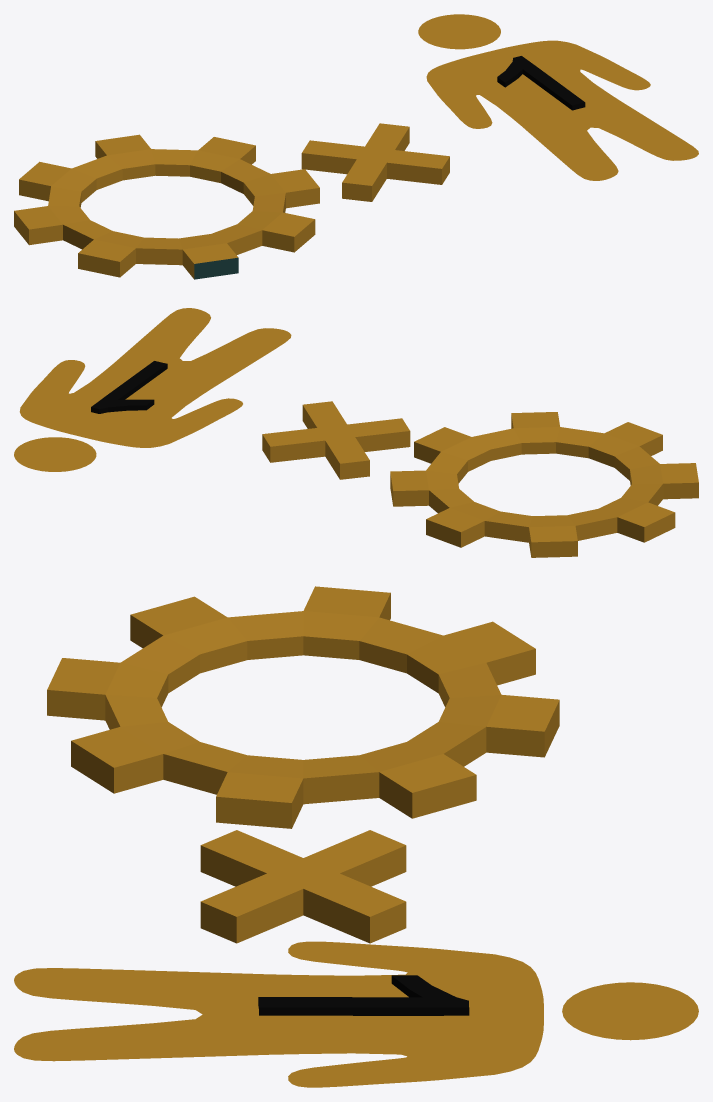
The model's file is MachineXMen1.fbx.
The picture shows the model from 3 angles, top to bottom: view 1: azimuth 30°, elevation 25°; view 2: azimuth 150°, elevation 25°; view 3: azimuth 270°, elevation 25°; orthographic projection. The views are drawn at different scales.
Parts seen in each view (by area): view 1: Text.006; view 2: Text.006; view 3: Text.006.
Boxes of the visible parts, x1,y1,x2,y2 form: Text.006: (14,14,698,279); Text.006: (14,308,698,557); Text.006: (14,586,698,1087).
Size of the model in its own units: 224 by 10.55 by 130.
